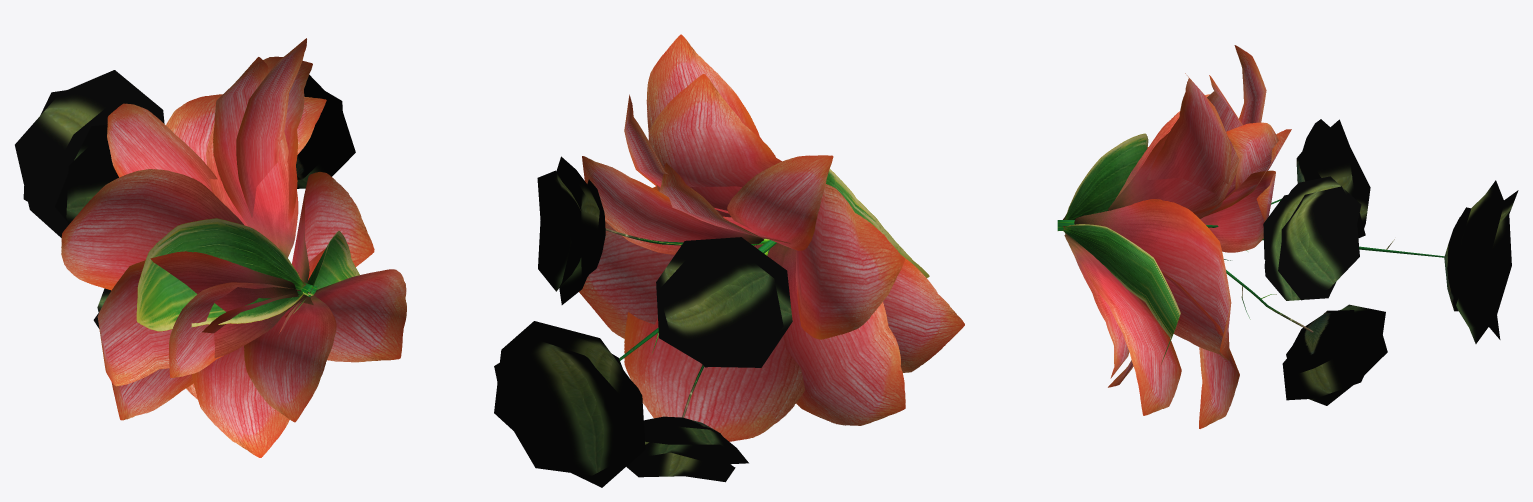
File: plant3.FBX
3 views of the same model, side by side, from view 1: azimuth 30°, elevation 25°; view 2: azimuth 150°, elevation 25°; view 3: azimuth 270°, elevation 25° (orthographic). The views are drawn at different scales.
Parts seen in each view (by area): view 1: plant3_LOD0; view 2: plant3_LOD0; view 3: plant3_LOD0.
Part boxes in pixels (<box>): plant3_LOD0: <box>15,38,406,457</box>; plant3_LOD0: <box>494,34,964,487</box>; plant3_LOD0: <box>1057,45,1518,428</box>.
Size of the model in its own units: 54.89 by 58.36 by 52.56.
